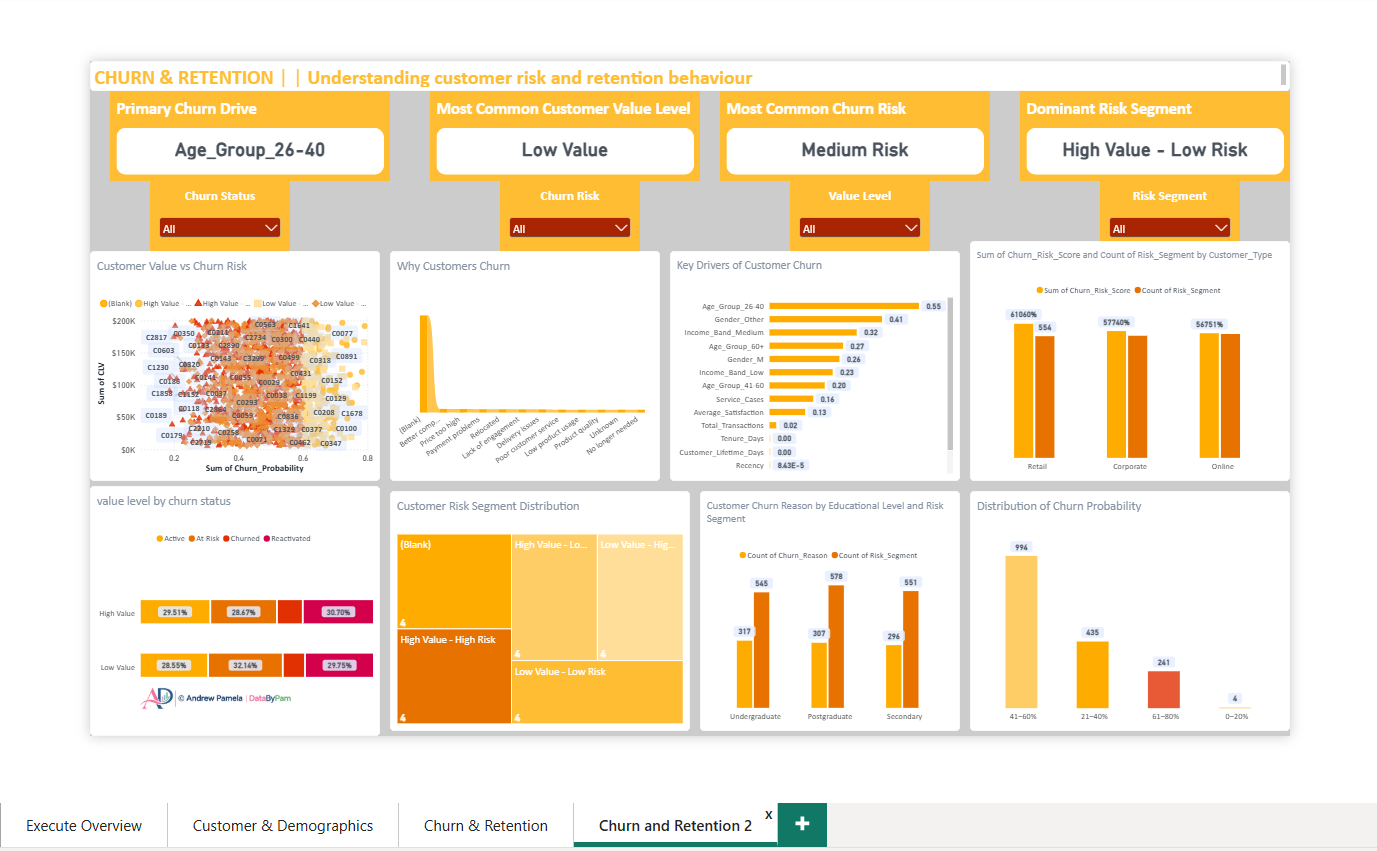

What the dashboard file says about the page in this screenshot:
{"tool":"powerbi","page":{"name":"Churn and Retention 2","canvas":[1920,1080],"ordinal":3},"visuals":[{"type":"textbox","box":[0,0,1920,48],"z":0},{"type":"scatterChart","title":"Customer Value vs Churn Risk","fields":{"X":["Sum(customer_churn_clv_predictions.Churn_Probability)"],"Y":["Sum(customers.CLV)"],"Series":["customer_churn_clv_predictions.Risk_Segment"],"Category":["customer_churn_clv_predictions.CustomerID"]},"box":[0,304,464,368],"z":1000},{"type":"treemap","title":"Customer Risk Segment Distribution","fields":{"Group":["customer_churn_clv_predictions.Risk_Segment"],"Values":["CountNonNull(customer_risk_segment_summary.Customers)"]},"box":[480,688,480,384],"z":2000},{"type":"clusteredColumnChart","title":"Distribution of Churn Probability","fields":{"Category":["customer_churn_clv_predictions.Churn Probability Band"],"Y":["Count(customer_churn_clv_predictions.CustomerID)"]},"box":[1408,688,512,384],"z":3000},{"type":"hundredPercentStackedBarChart","title":"value level by churn status","fields":{"Category":["customer_churn_clv_predictions.Value_Level"],"Y":["CountNonNull(customer_churn_clv_predictions.CustomerID)"],"Series":["customer_churn_clv_predictions.Churn_Status"]},"box":[0,680,464,400],"z":4000},{"type":"ribbonChart","title":"Why Customers Churn","fields":{"Category":["customers.Churn_Reason"],"Y":["CountNonNull(customers.CustomerID)"]},"box":[480,304,432,368],"z":5000},{"type":"clusteredColumnChart","fields":{"Category":["customers.Customer_Type"],"Y":["Sum(customers.Churn_Risk_Score)","CountNonNull(customer_churn_clv_predictions.Risk_Segment)"]},"box":[1408,288,512,384],"z":6000},{"type":"clusteredColumnChart","title":"Customer Churn Reason by Educational Level and Risk Segment","fields":{"Y":["CountNonNull(customers.Churn_Reason)","CountNonNull(customer_churn_clv_predictions.Risk_Segment)"],"Category":["customers.Education_Level"]},"box":[976,688,416,384],"z":7000},{"type":"barChart","title":"Key Drivers of Customer Churn","fields":{"Category":["clv_feature_importance.Feature"],"Y":["Sum(churn_feature_importance.Absolute_Importance)"]},"box":[928,304,464,368],"z":8000},{"type":"cardVisual","title":"Dominant Risk Segment","fields":{"Data":["customer_risk_segment_summary.Dominant Risk Segment"]},"box":[1488,48,432,144],"z":9000},{"type":"cardVisual","title":"Most Common Churn Risk","fields":{"Data":["customer_risk_segment_summary.Most Common Churn Risk"]},"box":[1008,48,432,144],"z":10000},{"type":"cardVisual","title":"Most Common Customer Value Level","fields":{"Data":["customer_risk_segment_summary.Most Common Value Level"]},"box":[544,48,432,144],"z":11000},{"type":"cardVisual","title":"Primary Churn Drive","fields":{"Data":["customer_risk_segment_summary.Primary Churn Driver"]},"box":[32,48,448,144],"z":12000},{"type":"slicer","title":"Churn Status","fields":{"Values":["customers.Churn_Status"]},"box":[96,192,224,112],"z":13000},{"type":"slicer","title":"Churn Risk","fields":{"Values":["customer_churn_clv_predictions.Churn_Risk"]},"box":[656,192,224,112],"z":13001},{"type":"slicer","title":"Value Level","fields":{"Values":["customer_churn_clv_predictions.Value_Level"]},"box":[1120,192,224,112],"z":13002},{"type":"slicer","title":"Risk Segment","fields":{"Values":["customer_churn_clv_predictions.Risk_Segment"]},"box":[1616,192,224,96],"z":13003},{"type":"image","box":[0,976,400,96],"z":13004}]}

Visuals, with their boxes on the page's 1920x1080 design canvas (x1, y1, x2, y2). These are canvas units, not pixel positions in the 1377x851 screenshot, which may show the page scaled, cropped or inside an application window:
textbox: {"x1": 0, "y1": 0, "x2": 1920, "y2": 48}
"Customer Value vs Churn Risk" scatterChart: {"x1": 0, "y1": 304, "x2": 464, "y2": 672}
"Customer Risk Segment Distribution" treemap: {"x1": 480, "y1": 688, "x2": 960, "y2": 1072}
"Distribution of Churn Probability" clusteredColumnChart: {"x1": 1408, "y1": 688, "x2": 1920, "y2": 1072}
"value level by churn status" hundredPercentStackedBarChart: {"x1": 0, "y1": 680, "x2": 464, "y2": 1080}
"Why Customers Churn" ribbonChart: {"x1": 480, "y1": 304, "x2": 912, "y2": 672}
clusteredColumnChart - customers.Customer_Type x Sum(customers.Churn_Risk_Score): {"x1": 1408, "y1": 288, "x2": 1920, "y2": 672}
"Customer Churn Reason by Educational Level and Risk Segment" clusteredColumnChart: {"x1": 976, "y1": 688, "x2": 1392, "y2": 1072}
"Key Drivers of Customer Churn" barChart: {"x1": 928, "y1": 304, "x2": 1392, "y2": 672}
"Dominant Risk Segment" cardVisual: {"x1": 1488, "y1": 48, "x2": 1920, "y2": 192}
"Most Common Churn Risk" cardVisual: {"x1": 1008, "y1": 48, "x2": 1440, "y2": 192}
"Most Common Customer Value Level" cardVisual: {"x1": 544, "y1": 48, "x2": 976, "y2": 192}
"Primary Churn Drive" cardVisual: {"x1": 32, "y1": 48, "x2": 480, "y2": 192}
"Churn Status" slicer: {"x1": 96, "y1": 192, "x2": 320, "y2": 304}
"Churn Risk" slicer: {"x1": 656, "y1": 192, "x2": 880, "y2": 304}
"Value Level" slicer: {"x1": 1120, "y1": 192, "x2": 1344, "y2": 304}
"Risk Segment" slicer: {"x1": 1616, "y1": 192, "x2": 1840, "y2": 288}
image: {"x1": 0, "y1": 976, "x2": 400, "y2": 1072}
